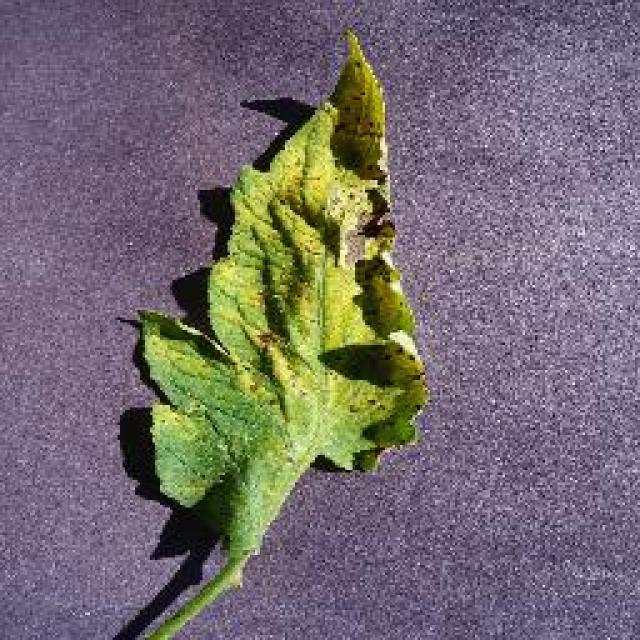Tomato___Septoria_leaf_spot: (140, 30, 425, 638)
